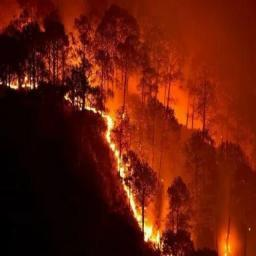Heavy smoke: (2, 1, 256, 256)
Medium fire: (7, 50, 244, 254)
